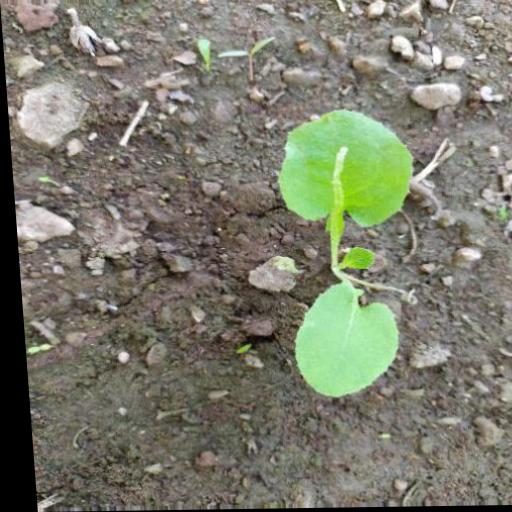weed: (269, 100, 428, 413)
